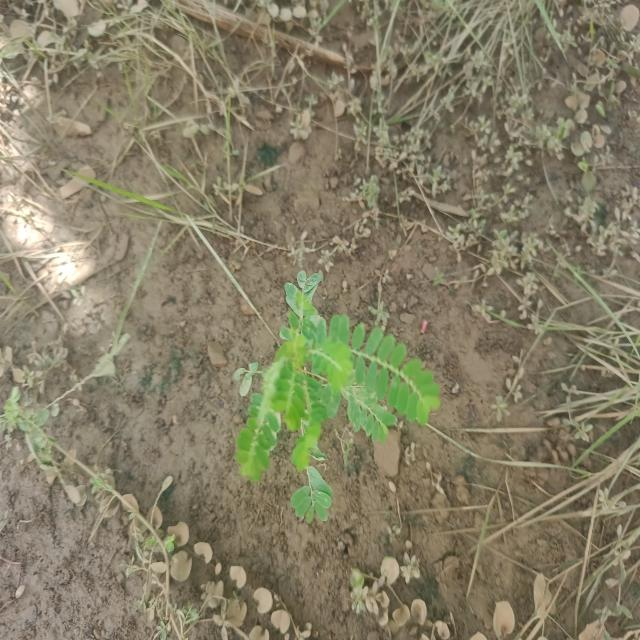weed: (230, 300, 446, 517)
